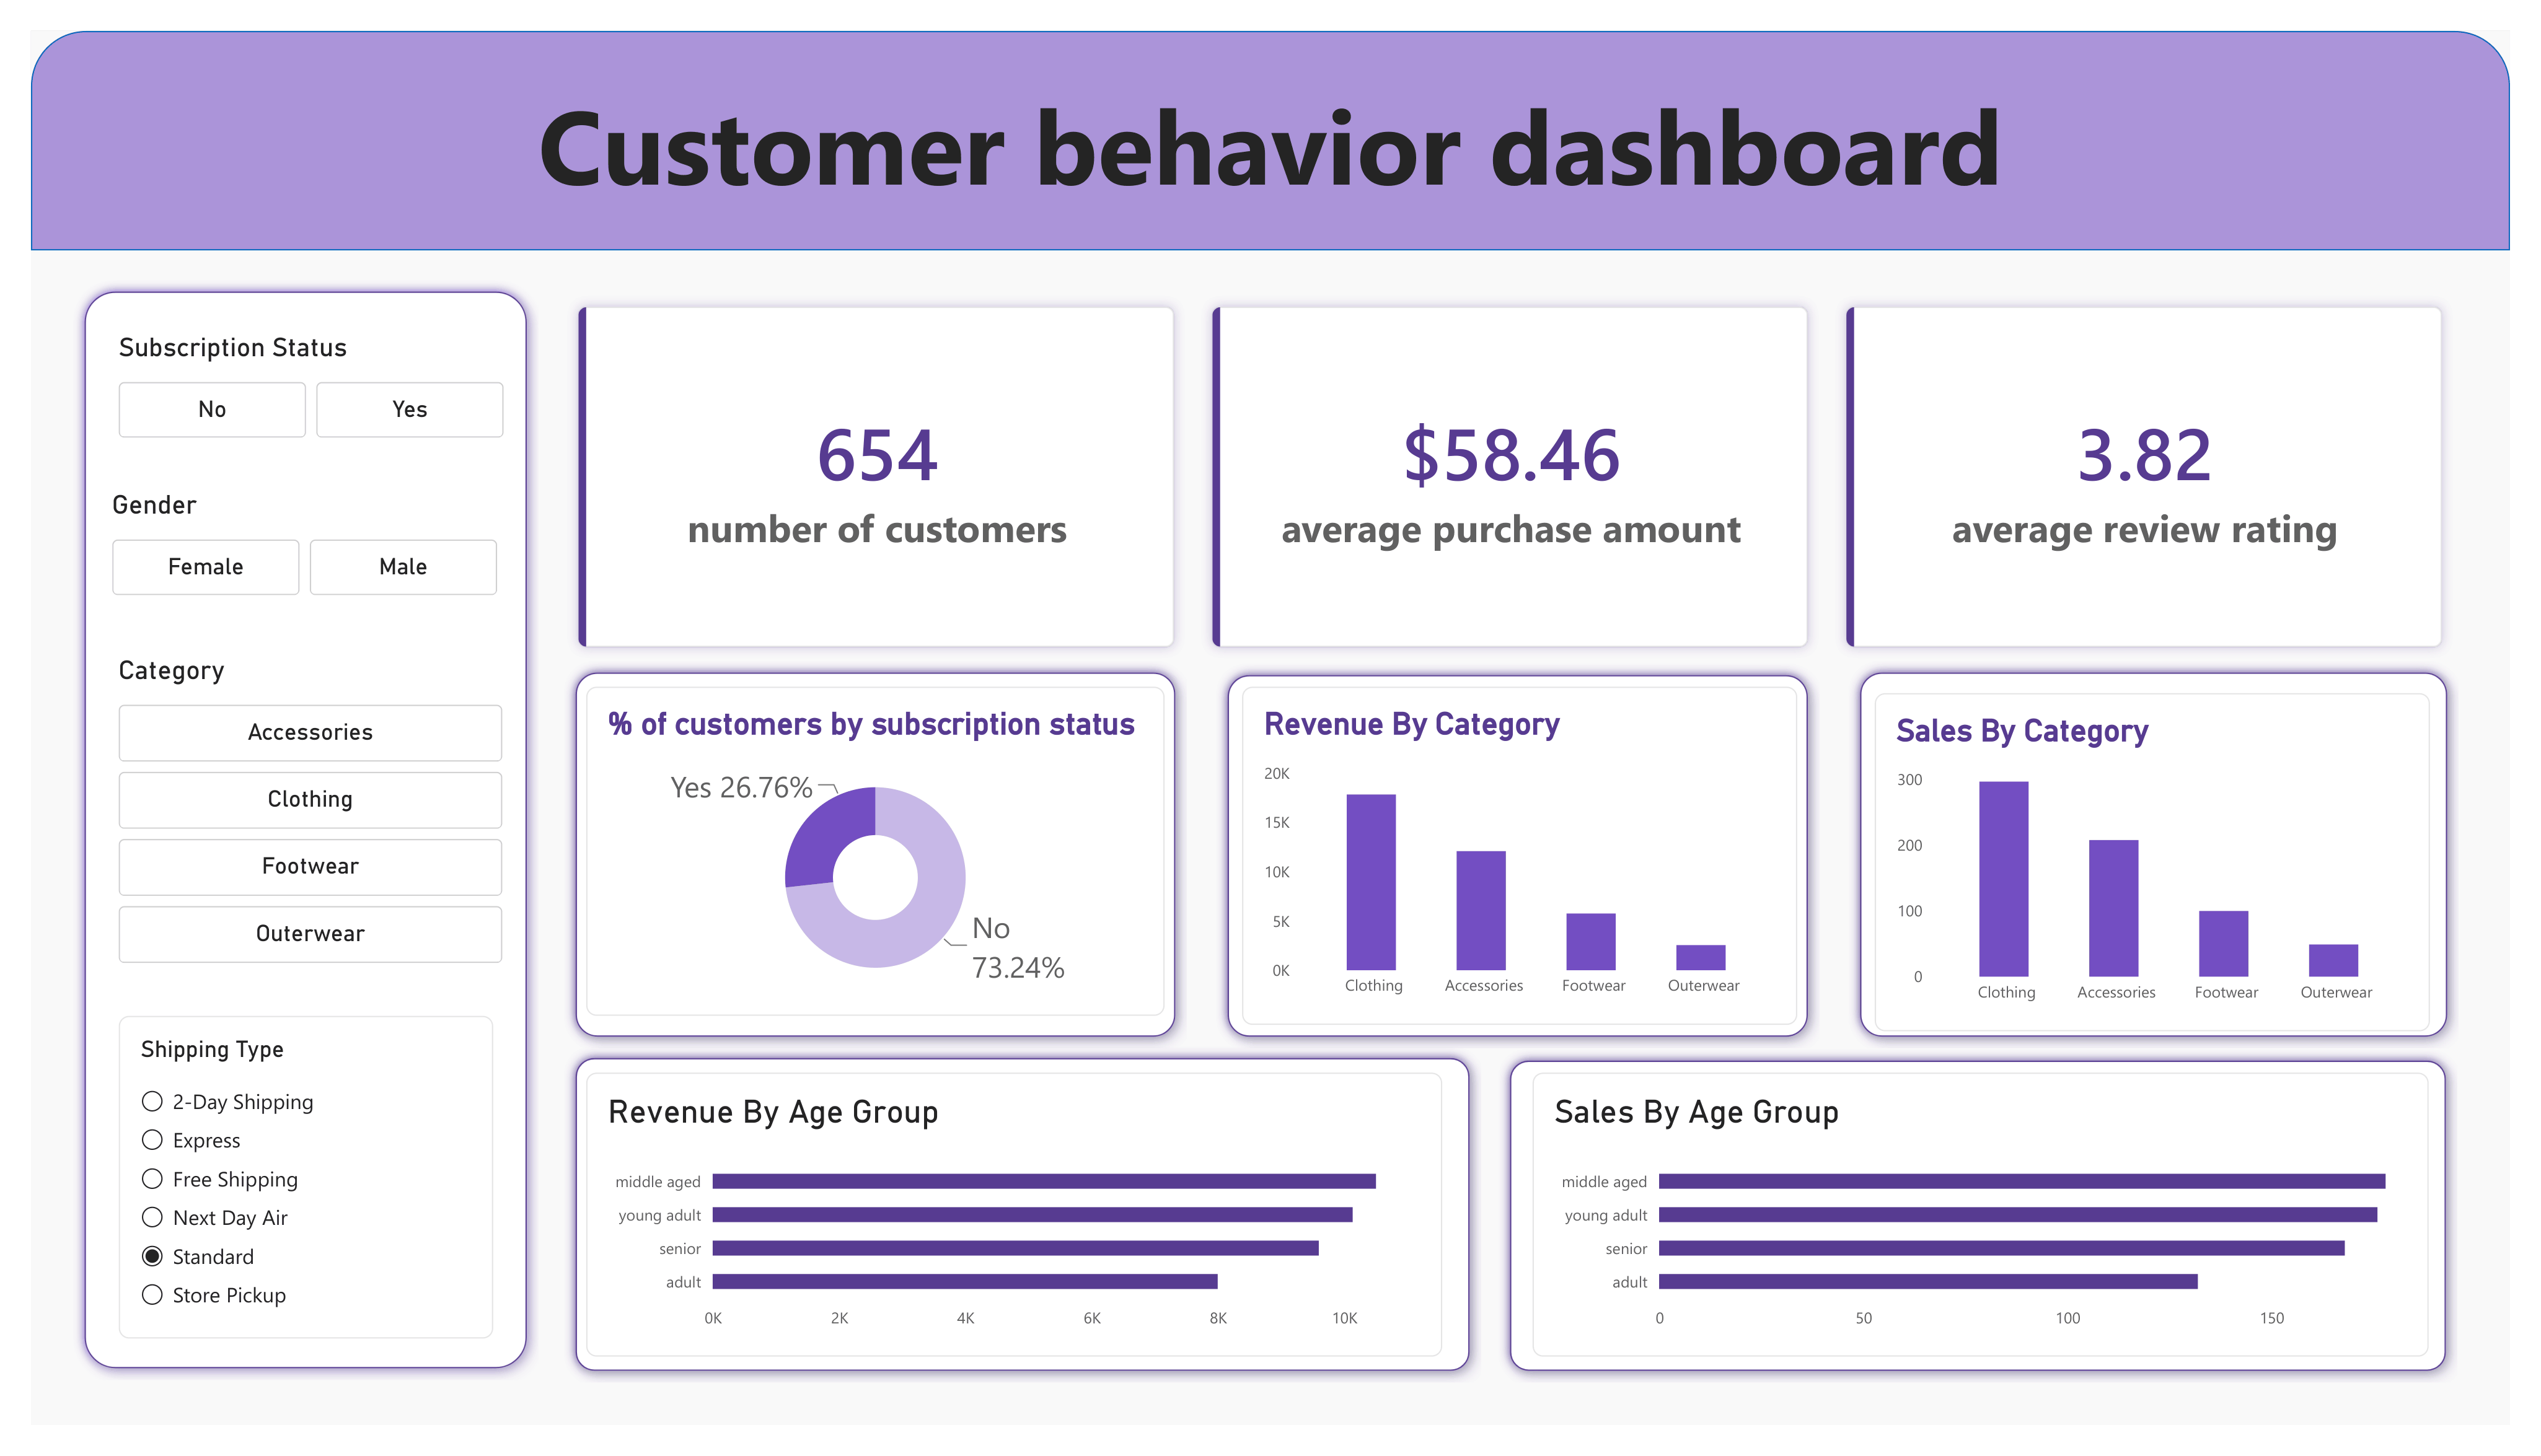

What the dashboard file says about the page in this screenshot:
{"tool":"powerbi","page":{"name":"Page 1","canvas":[1920,1080],"ordinal":0},"visuals":[{"type":"cardVisual","fields":{"Data":["public customer.number of customers","public customer.average purchase amount","public customer.average review rating"]},"box":[412.5,202.5,1467.5,285],"z":0},{"type":"shape","box":[0,0,1920,170],"z":1000},{"type":"textbox","box":[0,32.5,1920,110],"z":2000},{"type":"shape","box":[412.5,487.5,482.5,300],"z":3000},{"type":"donutChart","title":"% of customers by subscription status","fields":{"Category":["public customer.subscription_status"],"Y":["CountNonNull(public customer.customer_id)"]},"box":[430,507.5,447.5,255],"z":4000},{"type":"shape","box":[917.5,490,467.5,297.5],"z":5000},{"type":"shape","box":[1407.5,487.5,472.5,300],"z":6000},{"type":"clusteredColumnChart","title":"Revenue By Category ","fields":{"Category":["public customer.category"],"Y":["Sum(public customer.purchase_amount)"]},"box":[937.5,507.5,430,262.5],"z":7000},{"type":"clusteredColumnChart","title":"Sales By Category ","fields":{"Category":["public customer.category"],"Y":["CountNonNull(public customer.customer_id)"]},"box":[1427.5,512.5,430,262.5],"z":8000},{"type":"shape","box":[32.5,192.5,360,852.5],"z":9000},{"type":"advancedSlicerVisual","fields":{"Values":["public customer.subscription_status"]},"box":[67.5,232.5,298,83],"z":10000},{"type":"advancedSlicerVisual","fields":{"Values":["public customer.gender"]},"box":[62.5,355,298,83],"z":11000},{"type":"advancedSlicerVisual","fields":{"Values":["public customer.category"]},"box":[67.5,482.5,297.5,240],"z":12000},{"type":"listSlicer","fields":{"Values":["public customer.shipping_type"]},"box":[67.5,762.5,290,250],"z":13000},{"type":"shape","box":[413.3,786.7,710,260],"z":15000},{"type":"shape","box":[1136.7,789.2,742.5,257.5],"z":15001},{"type":"clusteredBarChart","title":"Sales By Age Group ","fields":{"Category":["public customer.age_group"],"Y":["CountNonNull(public customer.customer_id)"]},"box":[1163.3,806.7,693.3,220],"z":15002},{"type":"clusteredBarChart","title":"Revenue By Age Group ","fields":{"Category":["public customer.age_group"],"Y":["Sum(public customer.purchase_amount)"]},"box":[430,806.7,663.3,220],"z":15003}]}

Visuals, with their boxes on the page's 1920x1080 design canvas (x1, y1, x2, y2). These are canvas units, not pixel positions in the 2541x1456 screenshot, which may show the page scaled, cropped or inside an application window:
cardVisual - public customer.number of customers x public customer.average purchase amount: <region>412, 202, 1880, 488</region>
shape: <region>0, 0, 1920, 170</region>
textbox: <region>0, 32, 1920, 142</region>
shape: <region>412, 488, 895, 788</region>
"% of customers by subscription status" donutChart: <region>430, 508, 878, 762</region>
shape: <region>918, 490, 1385, 788</region>
shape: <region>1408, 488, 1880, 788</region>
"Revenue By Category " clusteredColumnChart: <region>938, 508, 1368, 770</region>
"Sales By Category " clusteredColumnChart: <region>1428, 512, 1858, 775</region>
shape: <region>32, 192, 392, 1045</region>
advancedSlicerVisual - public customer.subscription_status: <region>68, 232, 366, 316</region>
advancedSlicerVisual - public customer.gender: <region>62, 355, 360, 438</region>
advancedSlicerVisual - public customer.category: <region>68, 482, 365, 722</region>
listSlicer - public customer.shipping_type: <region>68, 762, 358, 1012</region>
shape: <region>413, 787, 1123, 1047</region>
shape: <region>1137, 789, 1879, 1047</region>
"Sales By Age Group " clusteredBarChart: <region>1163, 807, 1857, 1027</region>
"Revenue By Age Group " clusteredBarChart: <region>430, 807, 1093, 1027</region>
